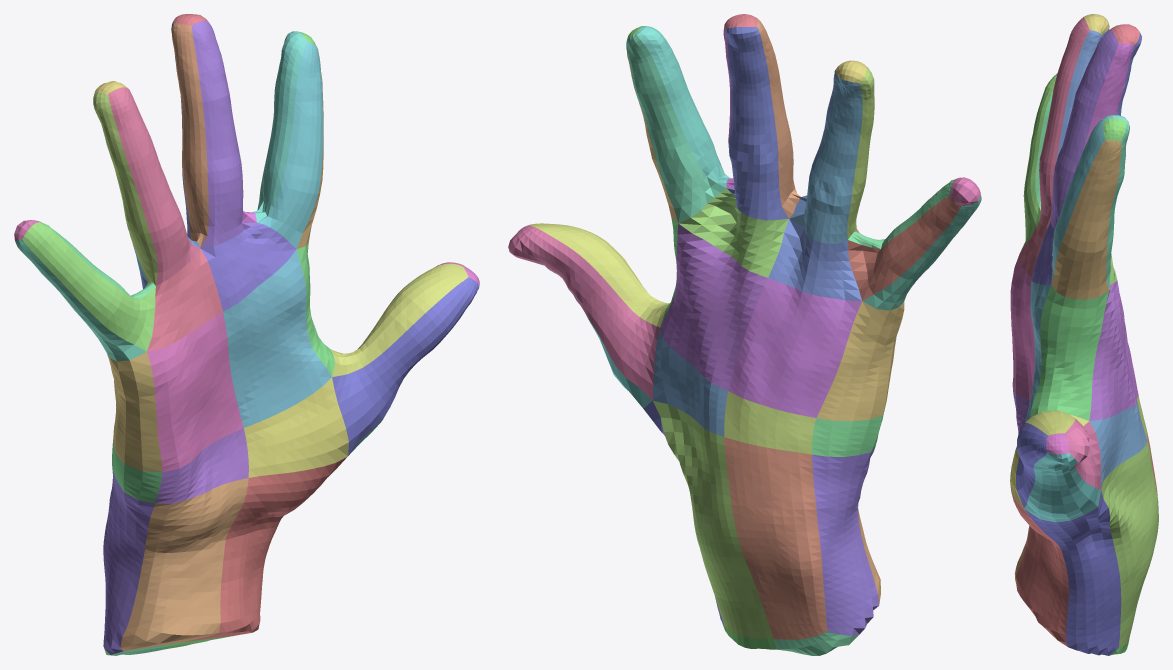
Rendered from 1_hand_output.obj.
3 views of the same model, side by side, from view 1: azimuth 30°, elevation 25°; view 2: azimuth 150°, elevation 25°; view 3: azimuth 270°, elevation 25° (orthographic).
Size of the model in its own units: 173 by 224 by 48.55.
